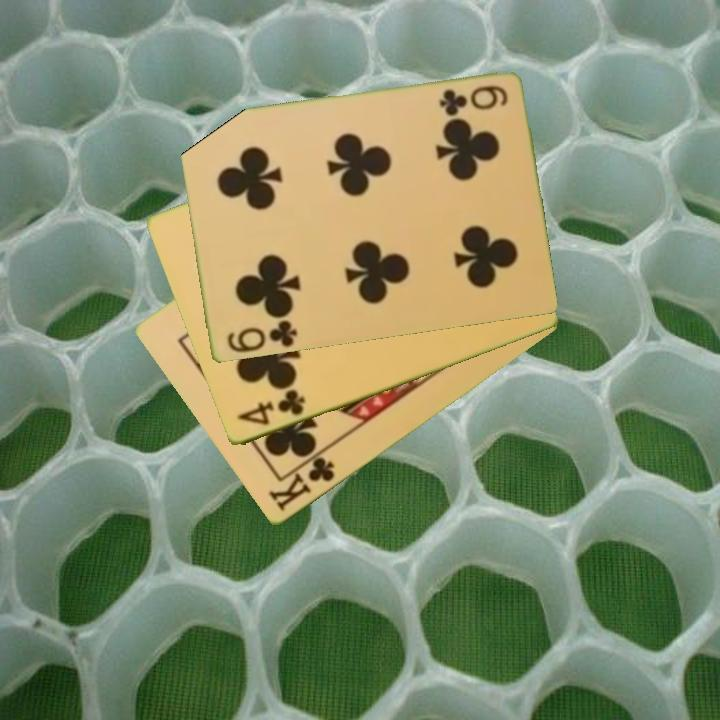4c: (234, 386, 308, 429)
6c: (223, 317, 300, 356), (435, 82, 511, 118)
Kc: (264, 446, 338, 515)
